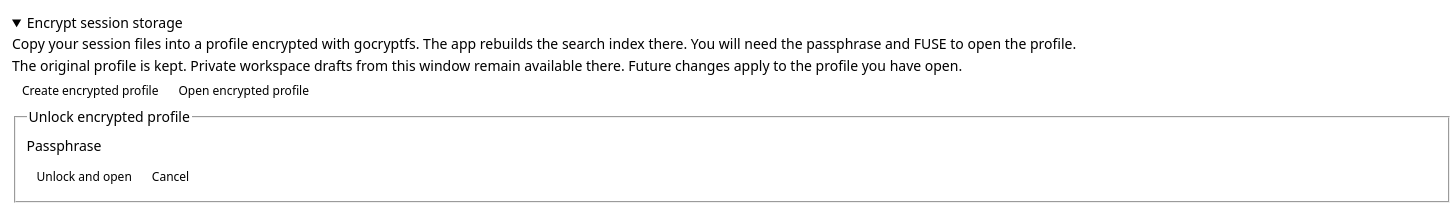
Test: cancels a Linux passphrase and opens an existing profile without a repeat field
Earlier steps of the test are not shown.
Step 1. Type "discarded" into the password field labelled "Passphrase" → (196, 147), box x1=102 y1=132 x2=292 y2=162
Step 2. Click the button "Cancel" → (170, 177), box x1=142 y1=162 x2=199 y2=192
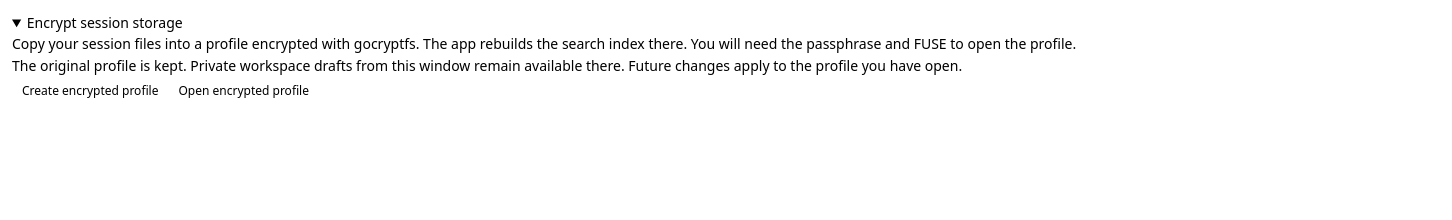
Step 3. Click the button "Open encrypted profile" → (244, 91), box x1=168 y1=76 x2=319 y2=106
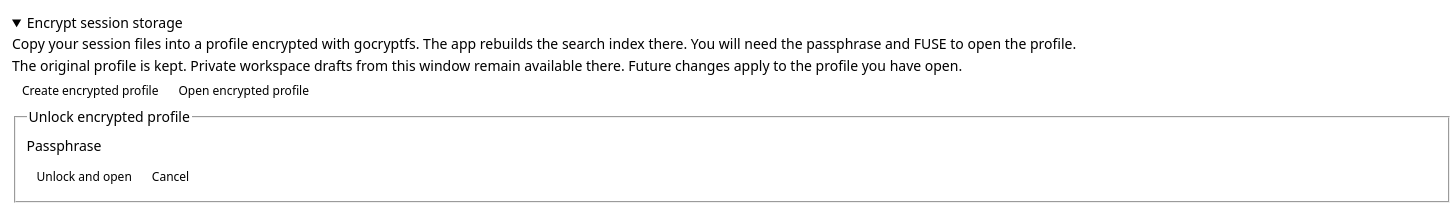
Step 4. Type "existing" into the password field labelled "Passphrase" → (196, 147), box x1=102 y1=132 x2=292 y2=162
Step 5. Click the button "Unlock and open" → (84, 177), box x1=26 y1=162 x2=142 y2=192
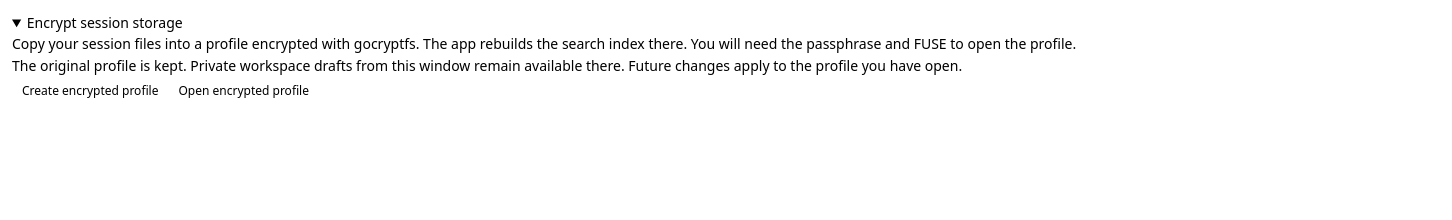
Expected: the text "Close this window" is not shown
Step 6. Click the button "Open encrypted profile" → (244, 91), box x1=168 y1=76 x2=319 y2=106
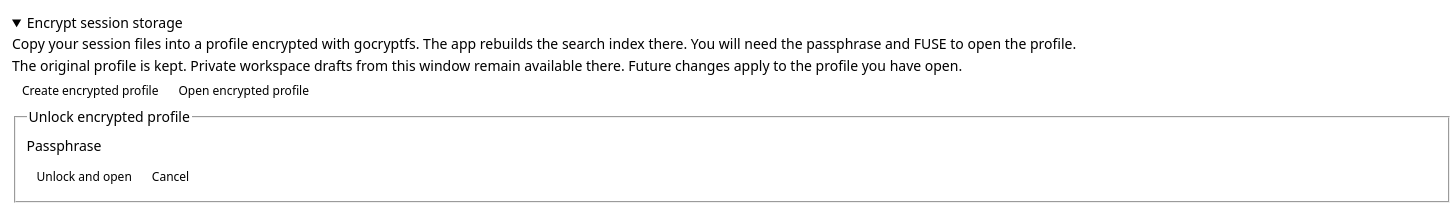
Step 7. Type "existing" into the password field labelled "Passphrase" → (196, 147), box x1=102 y1=132 x2=292 y2=162
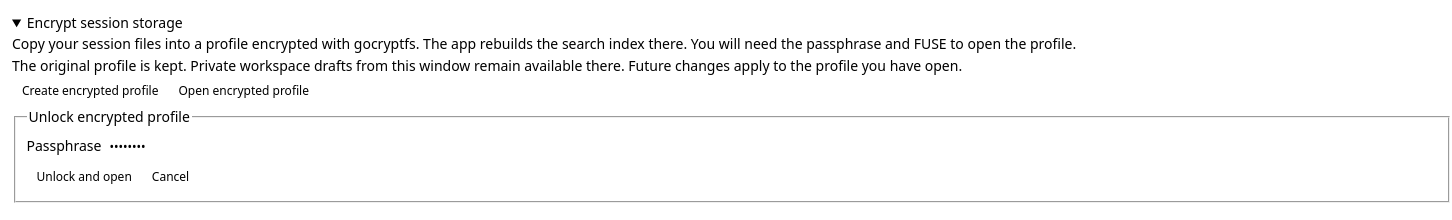
Step 8. Click the button "Unlock and open" → (84, 177), box x1=26 y1=162 x2=142 y2=192
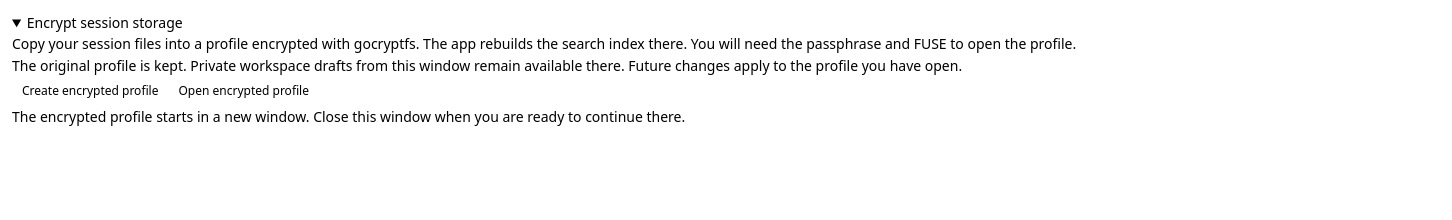
Expected: the text "Close this window" is shown, x1=12 y1=107 x2=685 y2=126
